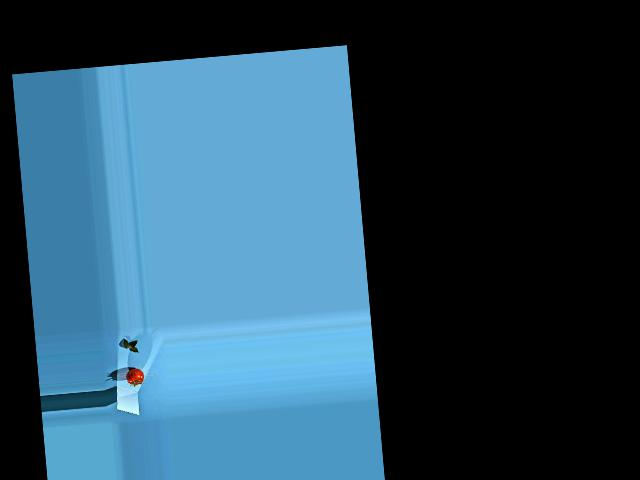tomato: (125, 367, 144, 386)
